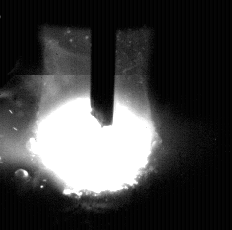arame: (91, 0, 115, 130)
poca: (28, 0, 155, 230)
